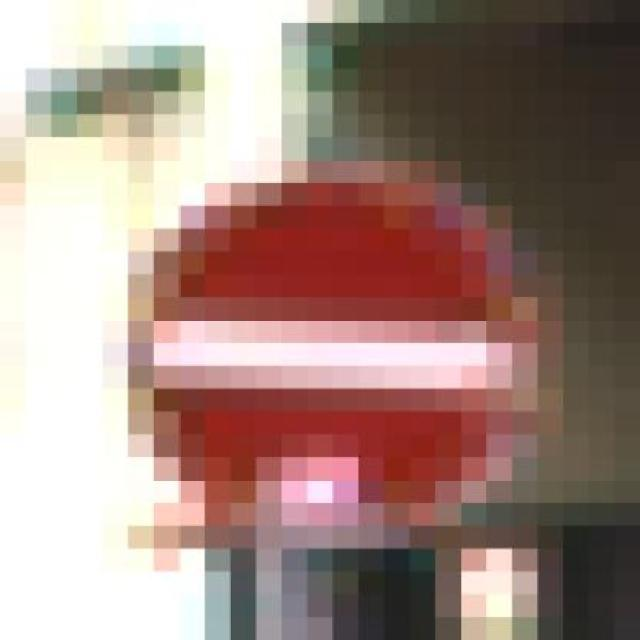B2: (137, 177, 536, 536)
